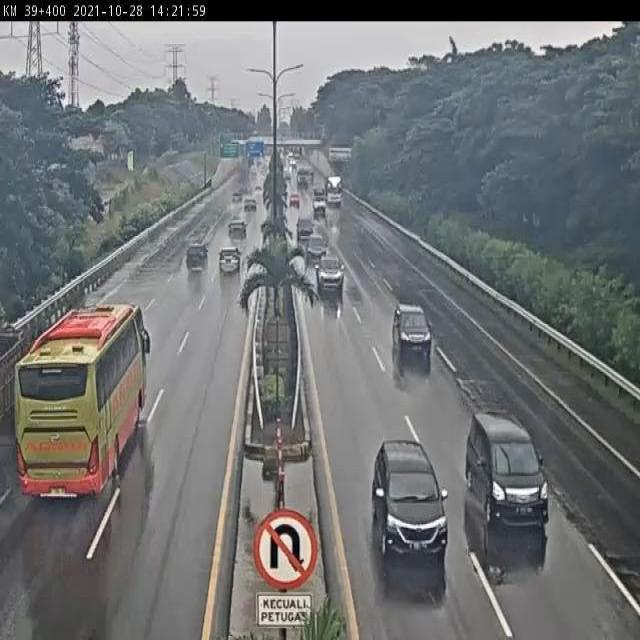big bus: (18, 302, 149, 498)
car: (462, 412, 549, 529), (369, 436, 449, 553), (391, 300, 433, 359), (314, 249, 343, 288), (184, 241, 209, 275), (217, 244, 242, 276), (305, 231, 328, 264), (226, 219, 247, 244), (295, 212, 314, 239)
